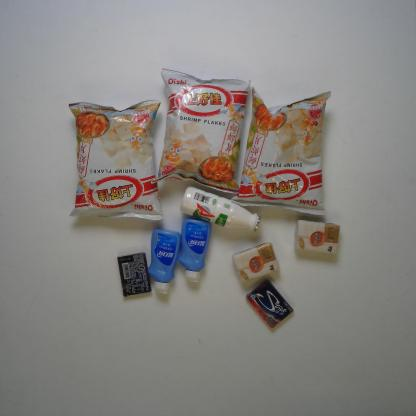Gum: (245, 275, 295, 330), (115, 250, 152, 298)
Milk: (178, 184, 262, 235)
Personal Hygiene: (146, 226, 182, 296), (176, 218, 214, 284)
Puffed Food: (231, 85, 335, 219), (148, 67, 253, 196), (64, 96, 166, 223)
Tissue: (231, 240, 281, 284), (292, 218, 344, 258)
